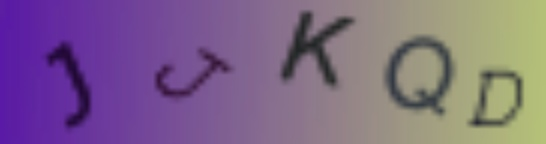D: (467, 67, 532, 131)
J: (150, 45, 240, 102), (43, 40, 97, 130)
K: (279, 11, 365, 89)
Q: (380, 29, 457, 122)
